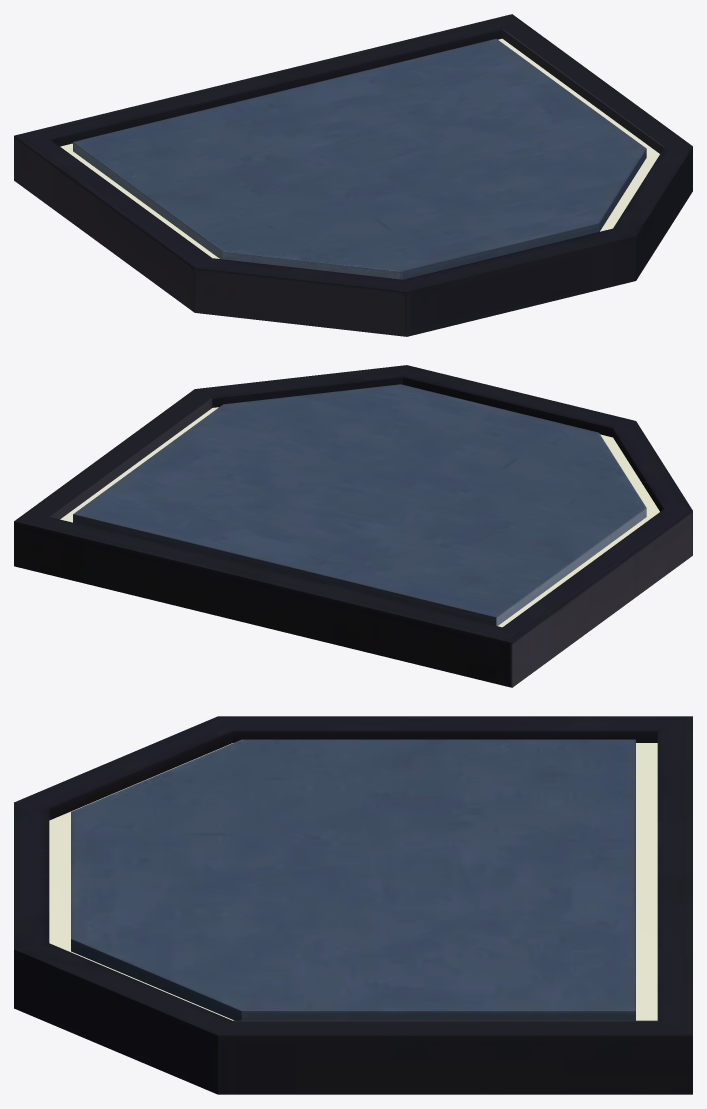
File: pm-platform-holder-01.glb
3 renders of one model, top to bottom at view 1: azimuth 30°, elevation 25°; view 2: azimuth 150°, elevation 25°; view 3: azimuth 270°, elevation 25°, orthographic. The views are drawn at different scales.
Visible parts, largest first — view 1: PlatformHolder01_Art; view 2: PlatformHolder01_Art; view 3: PlatformHolder01_Art.
Boxes of the visible parts, <box> form: PlatformHolder01_Art: <box>14,14,692,336</box>; PlatformHolder01_Art: <box>14,365,692,687</box>; PlatformHolder01_Art: <box>14,716,692,1094</box>.
Bounding box in the file's own units: 1.94 × 0.1693 × 1.75.
Materials: 1 (1 with a texture image).
